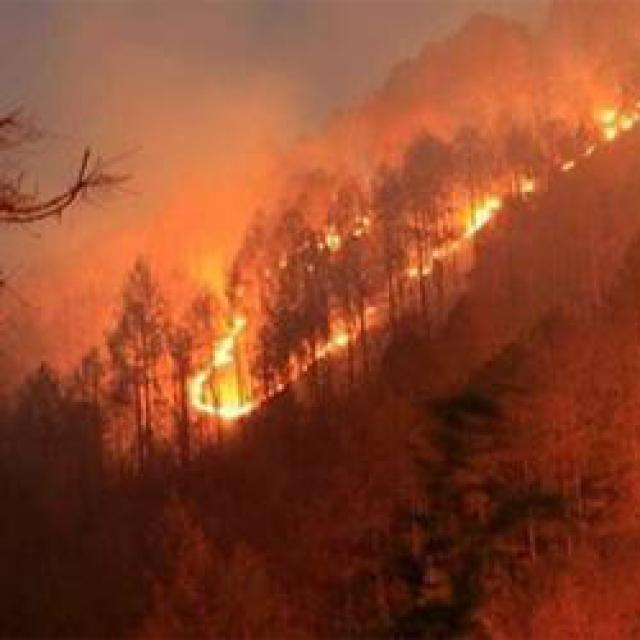Fire: (180, 312, 252, 418), (448, 198, 498, 244), (302, 332, 352, 366), (600, 109, 640, 141), (346, 210, 379, 242), (409, 252, 438, 288), (556, 152, 574, 182), (518, 170, 538, 196), (315, 232, 345, 246), (582, 128, 596, 157)
Smoke: (22, 0, 639, 105), (0, 99, 379, 214), (0, 216, 131, 384), (126, 214, 252, 300)
